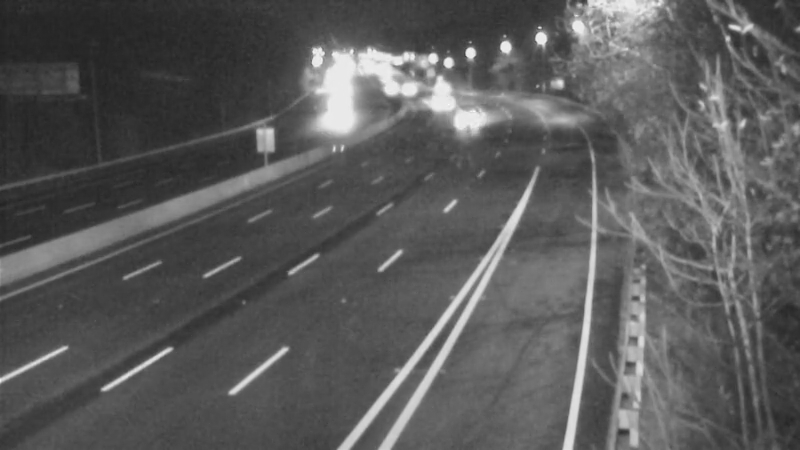vehicle: (407, 64, 457, 114), (384, 60, 434, 110), (412, 79, 462, 129), (438, 86, 488, 136), (439, 99, 489, 149), (318, 84, 368, 134)
